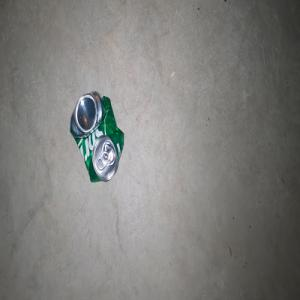SodaCan: (69, 90, 124, 182)
